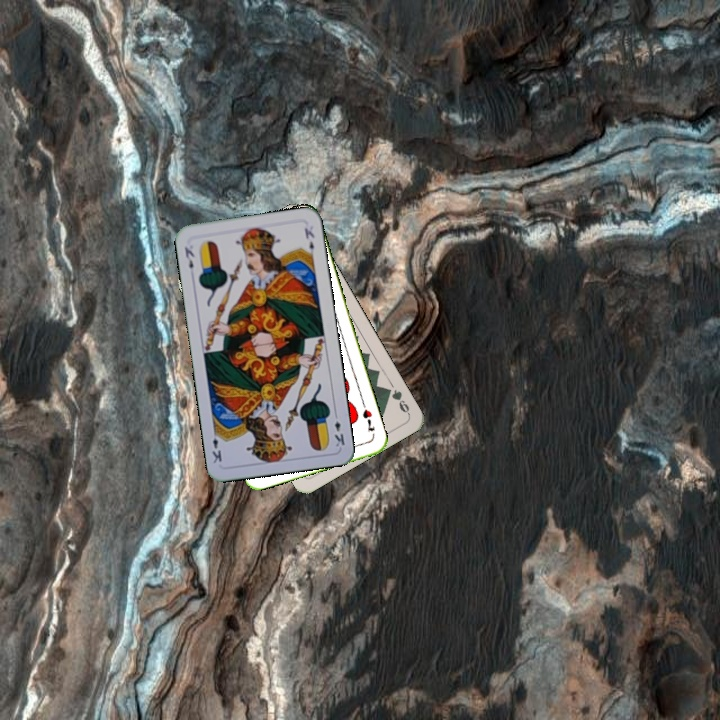EK: (330, 408, 347, 449), (180, 243, 197, 271)
G9: (381, 384, 412, 417)
H7: (358, 405, 377, 434)
